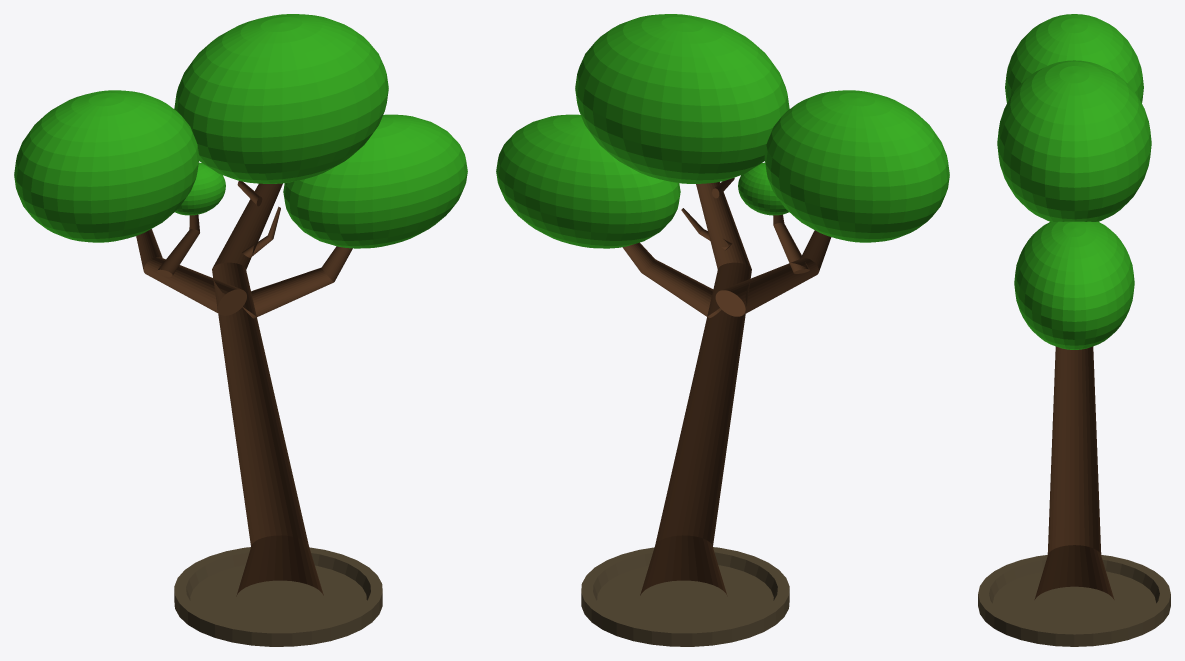
The model's file is arbol 3.fbx.
3 views of the same model, side by side, from view 1: azimuth 30°, elevation 25°; view 2: azimuth 150°, elevation 25°; view 3: azimuth 270°, elevation 25° (orthographic). The views are drawn at different scales.
Parts seen in each view (by area): view 1: Sphere.004; view 2: Sphere.004; view 3: Sphere.004.
Part boxes in pixels (x1=…): Sphere.004: x1=14, y1=14, x2=467, y2=646; Sphere.004: x1=496, y1=14, x2=949, y2=646; Sphere.004: x1=978, y1=14, x2=1170, y2=646.
Bounding box in the file's own units: 382 × 481 × 157.
